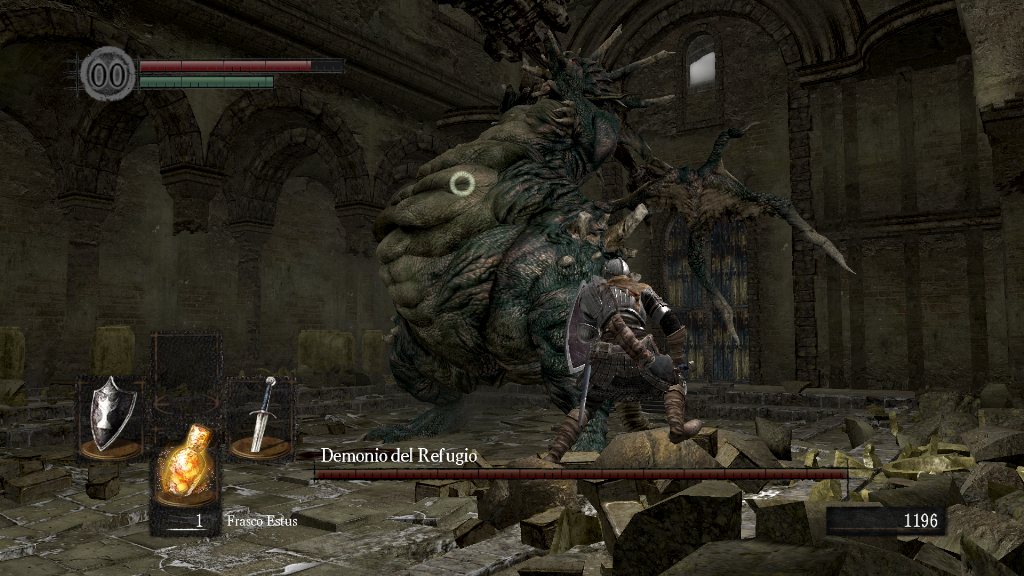asylumDemon: (360, 3, 861, 444)
bossHP: (314, 469, 847, 479)
health: (138, 58, 343, 71)
humanity: (80, 45, 136, 102)
player: (539, 257, 703, 460)
souls: (825, 506, 945, 536)
stamina: (138, 74, 274, 88)
